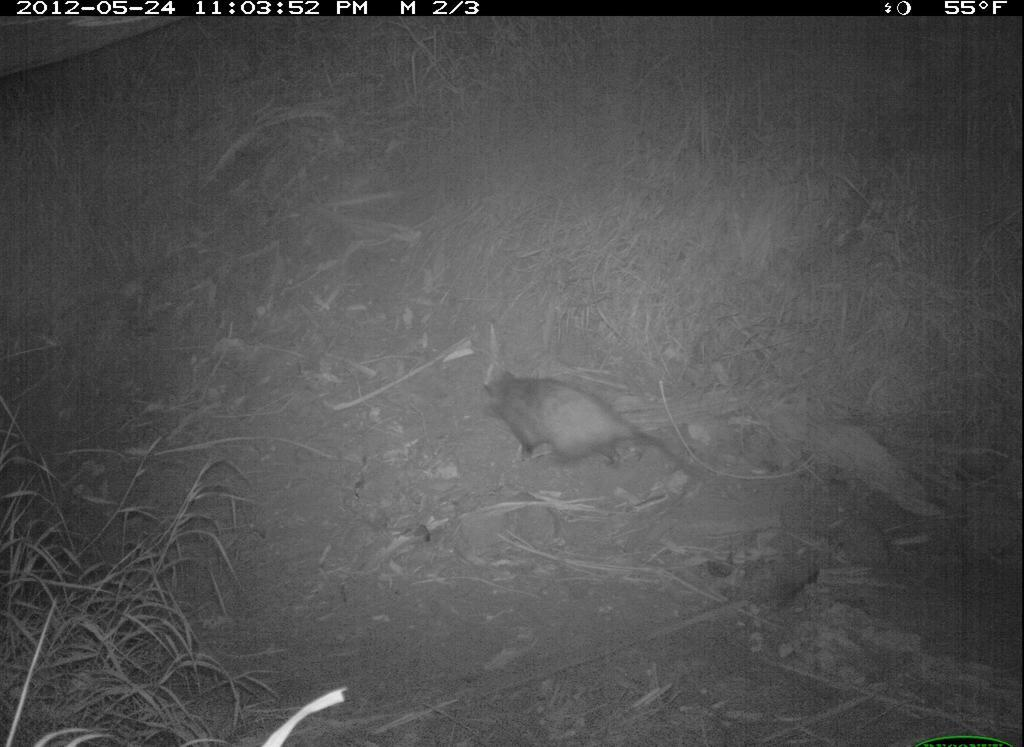opossum: (479, 365, 715, 493)
